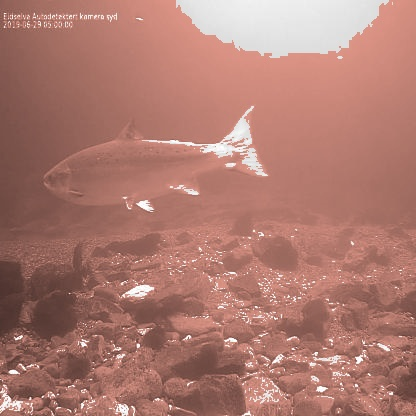salmon: (40, 104, 272, 216)
